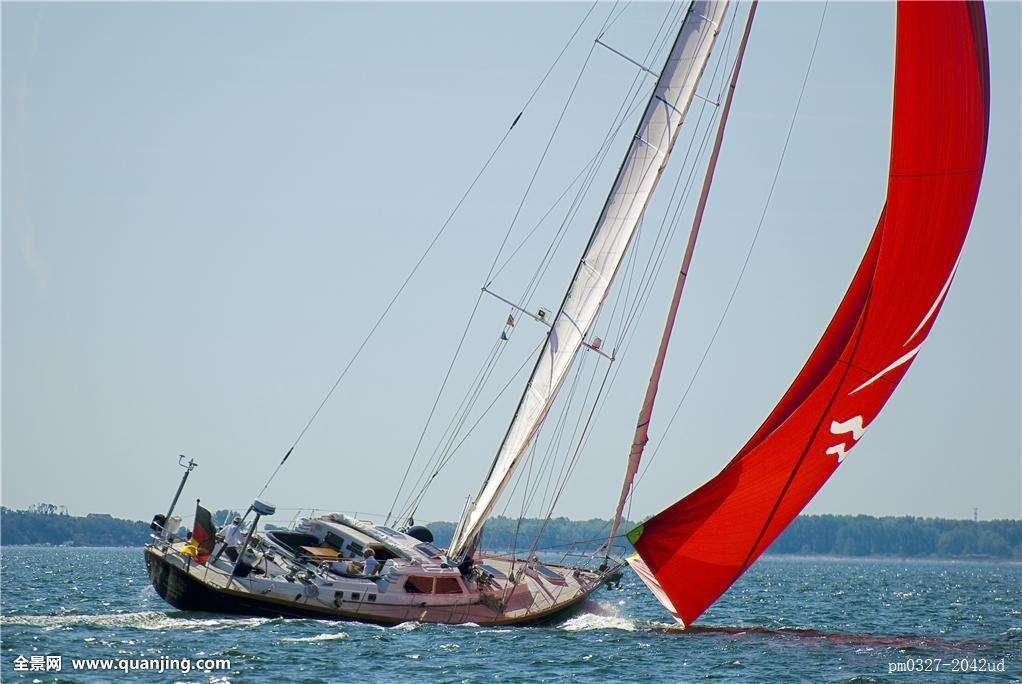fanchuan: (150, 1, 990, 628)
